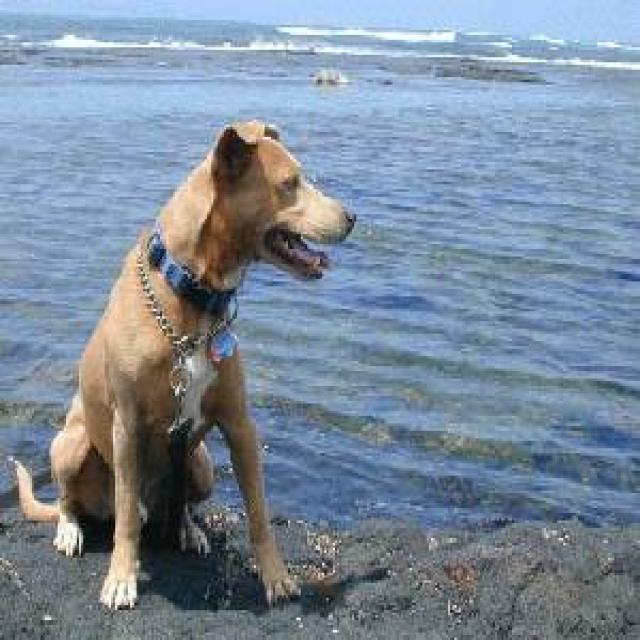dog-american_pit_bull_terrier: (2, 110, 367, 618)
